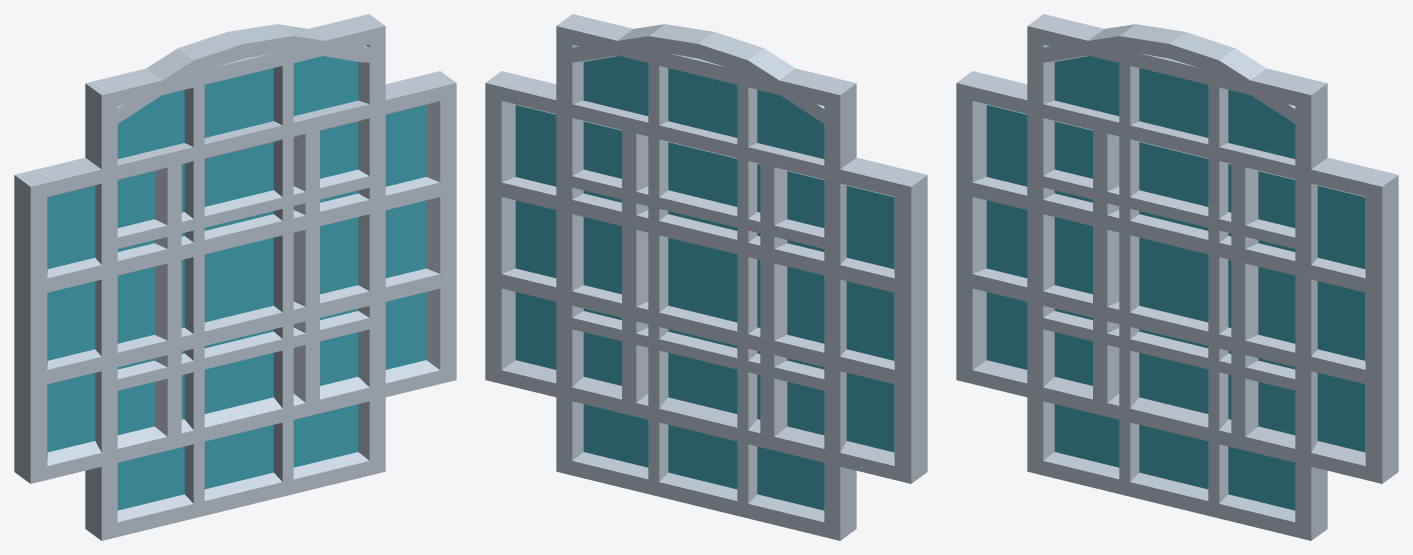
The model's file is factory_windows.fbx.
3 views of the same model, side by side, from view 1: azimuth 30°, elevation 25°; view 2: azimuth 150°, elevation 25°; view 3: azimuth 330°, elevation 25° (orthographic).
Parts seen in each view (by area): view 1: window.8, window.6, window.7; view 2: window.8, window.6, window.7; view 3: window.8, window.6, window.7.
Boxes of the visible parts, bbox=[...] form: window.8: bbox=[85, 24, 385, 540]; window.6: bbox=[14, 71, 456, 483]; window.7: bbox=[85, 14, 385, 313]; window.8: bbox=[556, 24, 856, 540]; window.6: bbox=[485, 71, 927, 483]; window.7: bbox=[556, 14, 856, 246]; window.8: bbox=[1027, 24, 1327, 540]; window.6: bbox=[956, 71, 1398, 483]; window.7: bbox=[1027, 14, 1327, 246].
Bounding box in the file's own units: 300 × 311 × 20.
